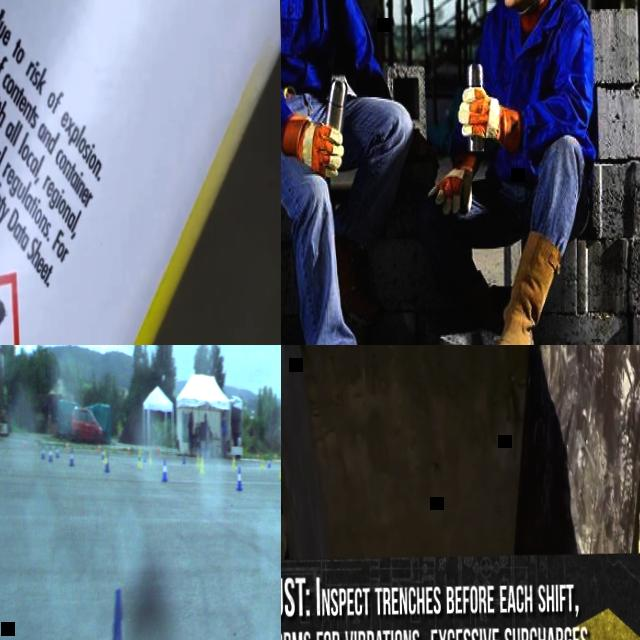NO-Safety Vest: (485, 0, 574, 167), (281, 0, 352, 94)
Person: (420, 0, 599, 345), (281, 0, 420, 345)
Safety Cone: (100, 587, 132, 640), (235, 466, 242, 490), (68, 444, 75, 466), (161, 458, 167, 482), (103, 452, 110, 472), (47, 442, 53, 462), (136, 448, 142, 468), (198, 457, 204, 474), (40, 442, 45, 461), (54, 443, 60, 458), (278, 461, 281, 481), (21, 436, 26, 448), (64, 438, 69, 450), (102, 448, 106, 462), (142, 448, 146, 462), (231, 454, 235, 468), (148, 450, 152, 463), (195, 453, 199, 466), (182, 452, 186, 464), (96, 441, 100, 452), (266, 457, 270, 468), (126, 444, 130, 454), (260, 458, 264, 468), (101, 448, 104, 460), (256, 450, 259, 460), (274, 453, 277, 460)
